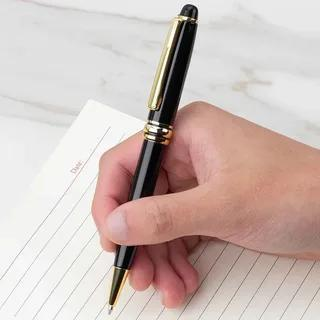pen-pencil: (130, 5, 197, 200), (111, 245, 134, 308)
